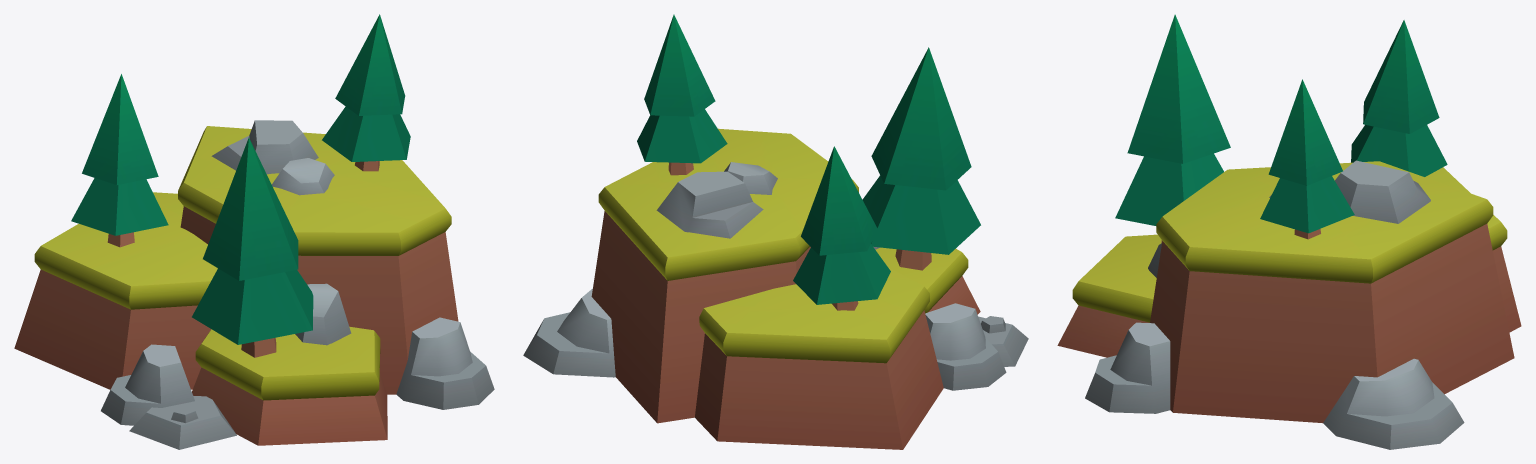
The model's file is hills-a-trees.glb.
3 views of the same model, side by side, from view 1: azimuth 30°, elevation 25°; view 2: azimuth 150°, elevation 25°; view 3: azimuth 270°, elevation 25° (orthographic). The views are drawn at different scales.
Visible parts, largest first — view 1: hills_A_trees; view 2: hills_A_trees; view 3: hills_A_trees.
Boxes of the visible parts, x1,y1,x2,y2 form: hills_A_trees: (14, 14, 494, 449); hills_A_trees: (523, 14, 1028, 449); hills_A_trees: (1057, 14, 1521, 449).
Size of the model in its own units: 1.76 by 1.33 by 1.74.
1 material, 1 textured.
